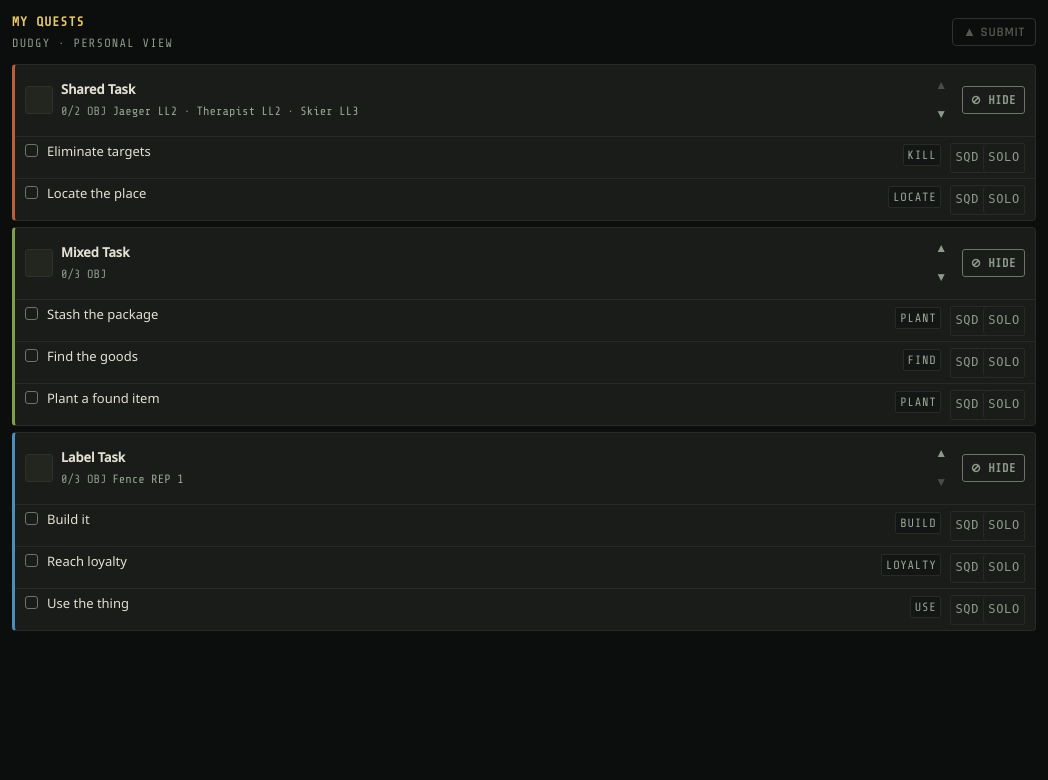
Test: hiding a quest › moves a hidden quest out of the list and into the drawer
Expected: the text "MY QUESTS" is shown, [12,14,84,29]
Step 1. Click the button with aria-label "Hide Shared Task" → (993,100), box [962,86,1025,114]
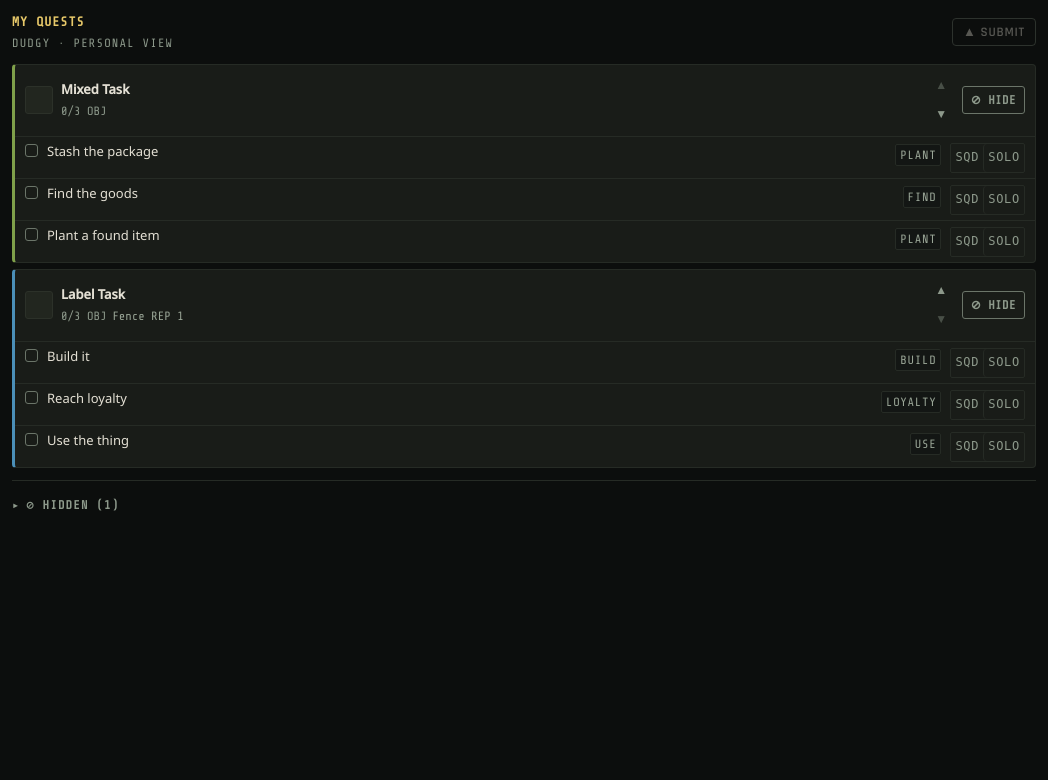
Expected: the text "Mixed Task" is shown, [61,80,129,98]
Result: the text "Shared Task" is gone
Step 2. Click the button "▸ ⊘ HIDDEN (1)" → (65,504), box [12,490,1036,518]
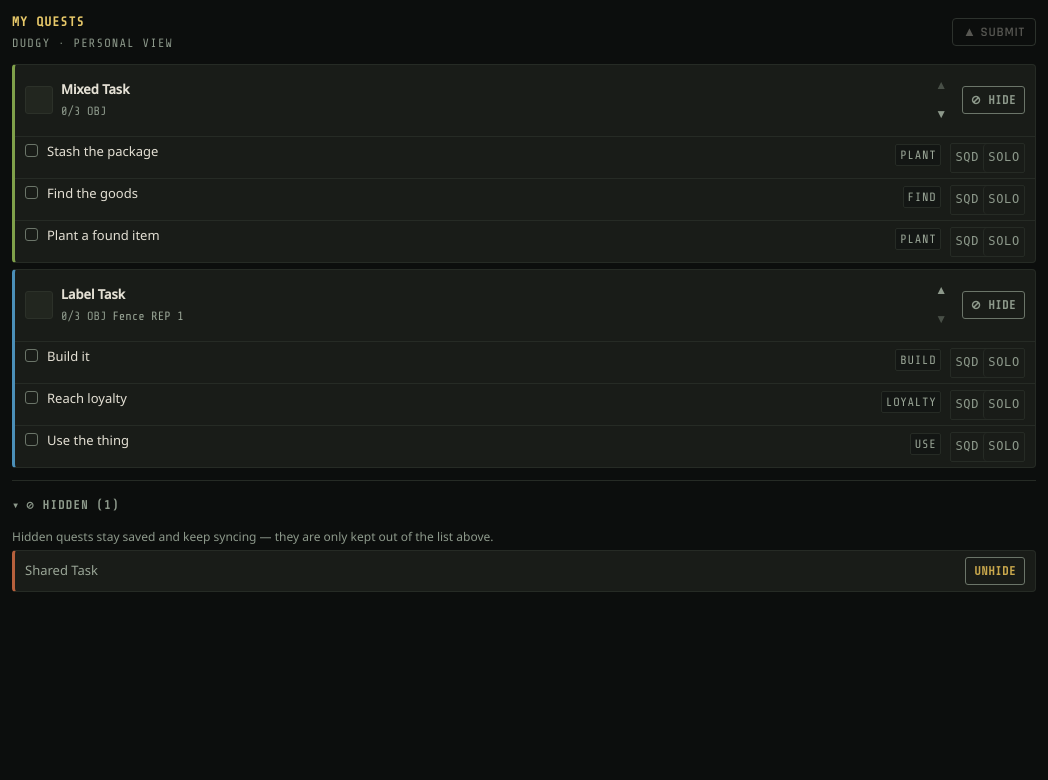
Result: the text "Shared Task" is shown at [25,561,98,579]
Result: the button with aria-label "Unhide Shared Task" is shown at [965,557,1025,585]
